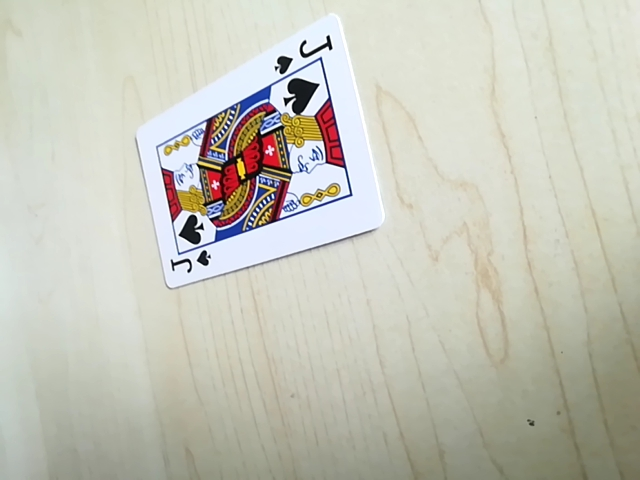ht j: (271, 29, 336, 77), (160, 242, 215, 281)
